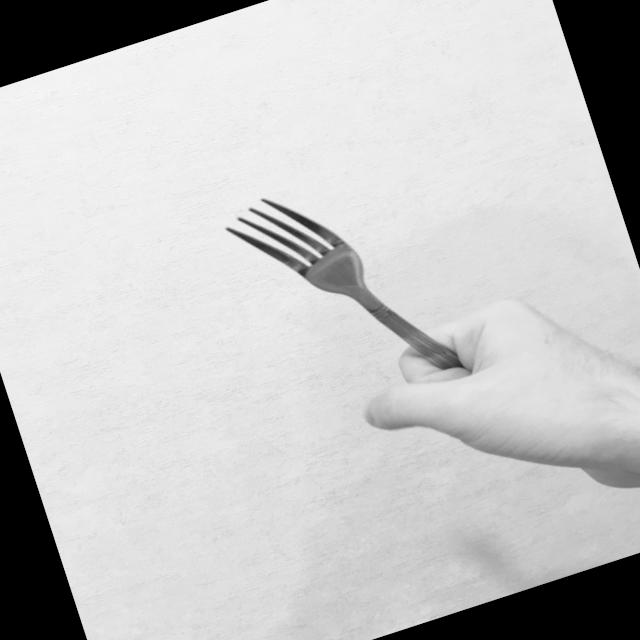fork: (211, 149, 492, 476)
